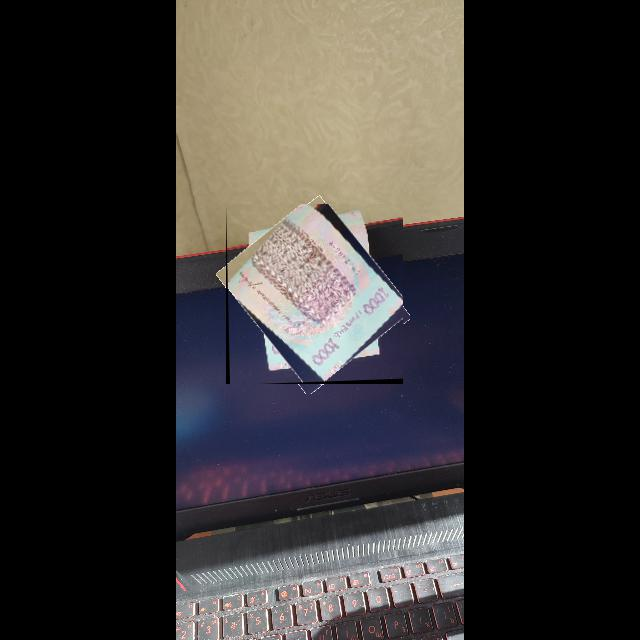1000uah: (228, 204, 404, 383)
